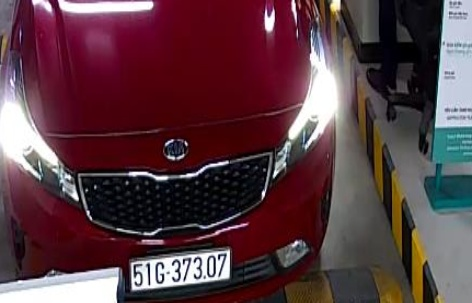plate: (125, 246, 237, 294)
